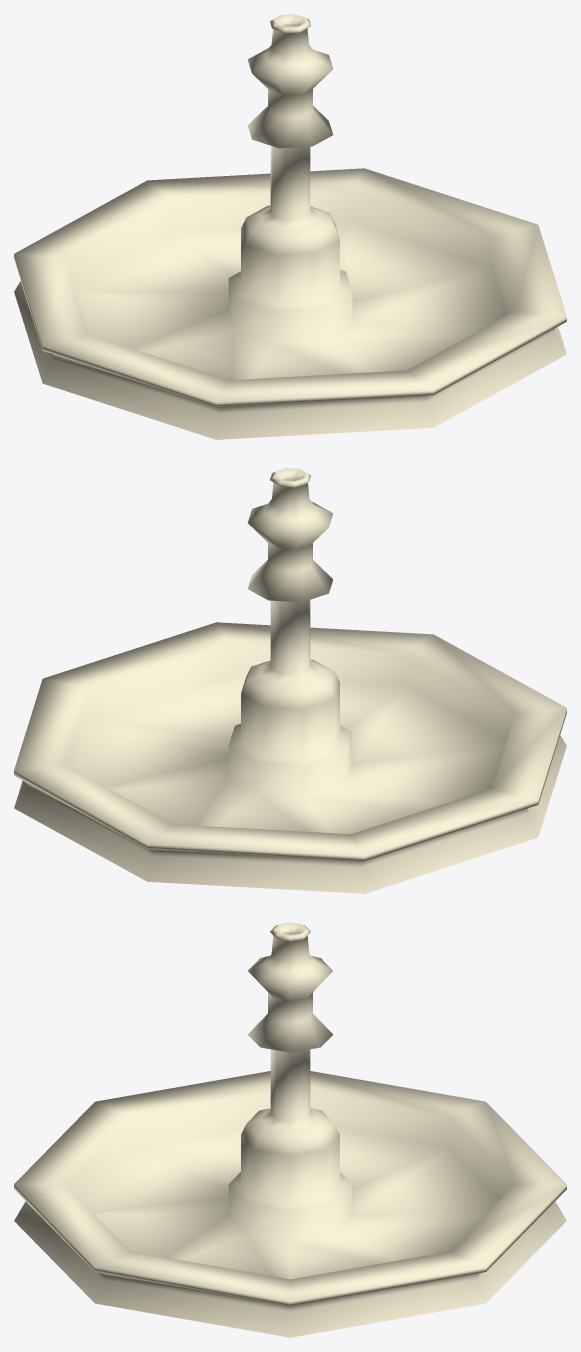
File: Fountain.fbx
3 renders of one model, top to bottom at view 1: azimuth 30°, elevation 25°; view 2: azimuth 150°, elevation 25°; view 3: azimuth 270°, elevation 25°, orthographic. The views are drawn at different scales.
Visible parts, largest first — view 1: Circle; view 2: Circle; view 3: Circle.
Boxes of the visible parts, x1,y1,x2,y2 form: Circle: (14,14,566,439); Circle: (14,468,566,893); Circle: (14,922,566,1337).
Bounding box in the file's own units: 454 × 265 × 454.
